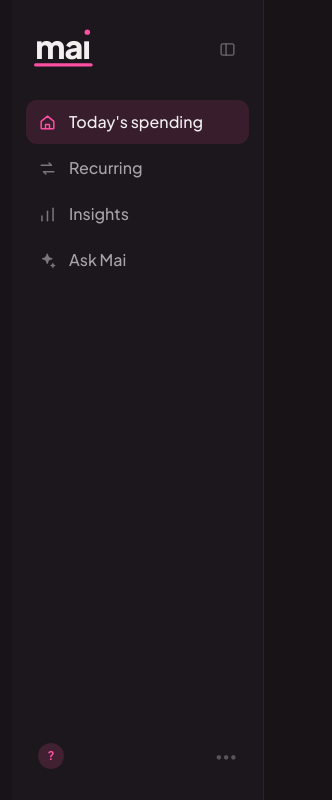
Sidebar › manually toggling collapses regardless of viewport, and drops the auto-collapse classes
Click the button named "Collapse sidebar": (227, 49) [213, 35, 241, 63]
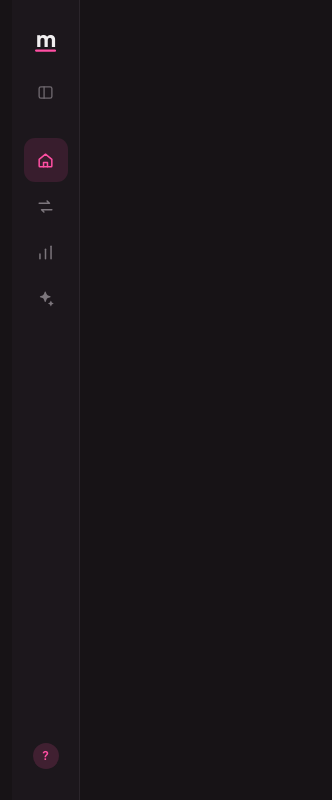
Expected: the button named "Expand sidebar" is shown, [24, 70, 68, 114]
